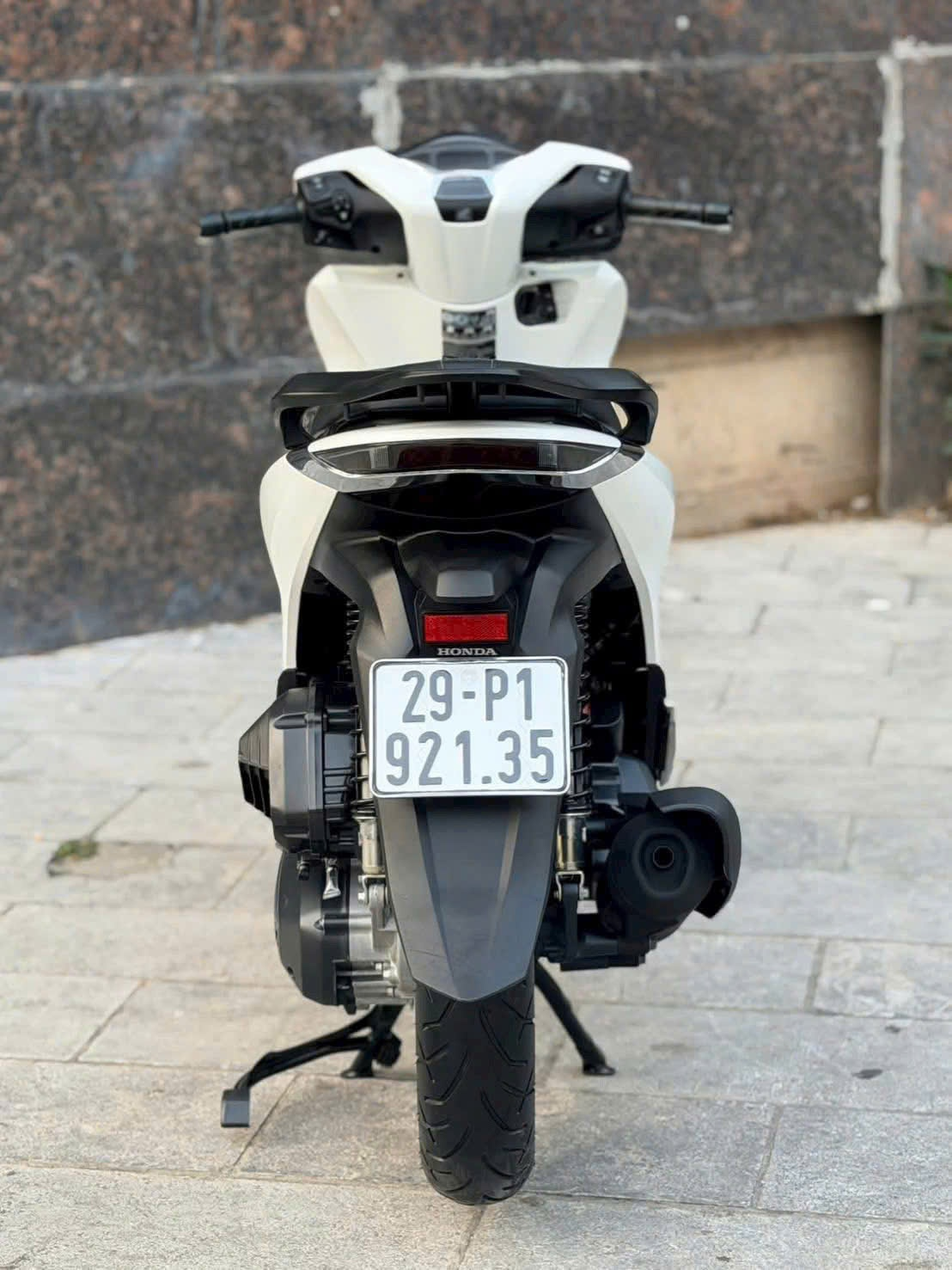Bien-so: (382, 610, 595, 770)
